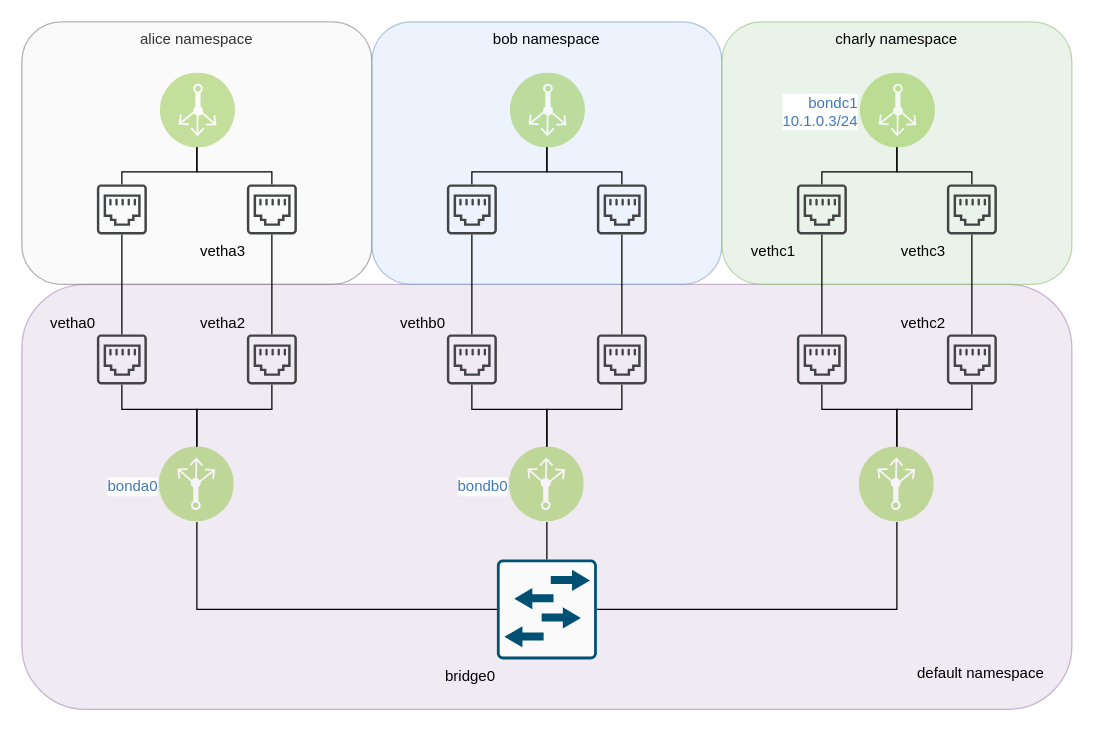
The diagram is 1094 pixels wide and 731 high, and some of its shapes have lost their labels. The box of each missing label's shape, as (x1, y1, x2, y2) in pixels:
bonda1 10.1.0.1/24: (159, 71, 234, 146)
bondb1 10.1.0.2/24: (509, 71, 584, 146)
bondc0: (859, 446, 934, 521)
vetha1: (96, 184, 146, 234)
vethb1: (446, 184, 496, 234)
vethb2: (596, 334, 646, 384)
vethb3: (596, 184, 646, 234)
vethc0: (796, 334, 846, 384)
